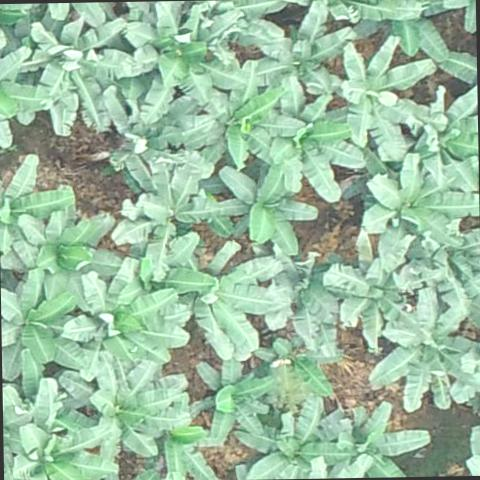Banana-plant: (15, 6, 136, 136), (364, 293, 480, 413), (361, 155, 480, 270), (68, 258, 176, 384), (168, 235, 272, 361), (123, 0, 246, 102), (188, 62, 301, 172), (333, 40, 436, 157), (5, 376, 117, 480), (106, 162, 198, 282), (270, 80, 362, 200), (0, 207, 120, 296), (85, 355, 188, 458), (247, 0, 352, 92), (214, 164, 318, 256), (0, 273, 84, 381), (236, 398, 345, 480), (324, 234, 398, 347), (109, 88, 185, 194), (402, 82, 479, 183), (332, 404, 433, 478), (0, 154, 73, 253), (198, 357, 271, 440)
